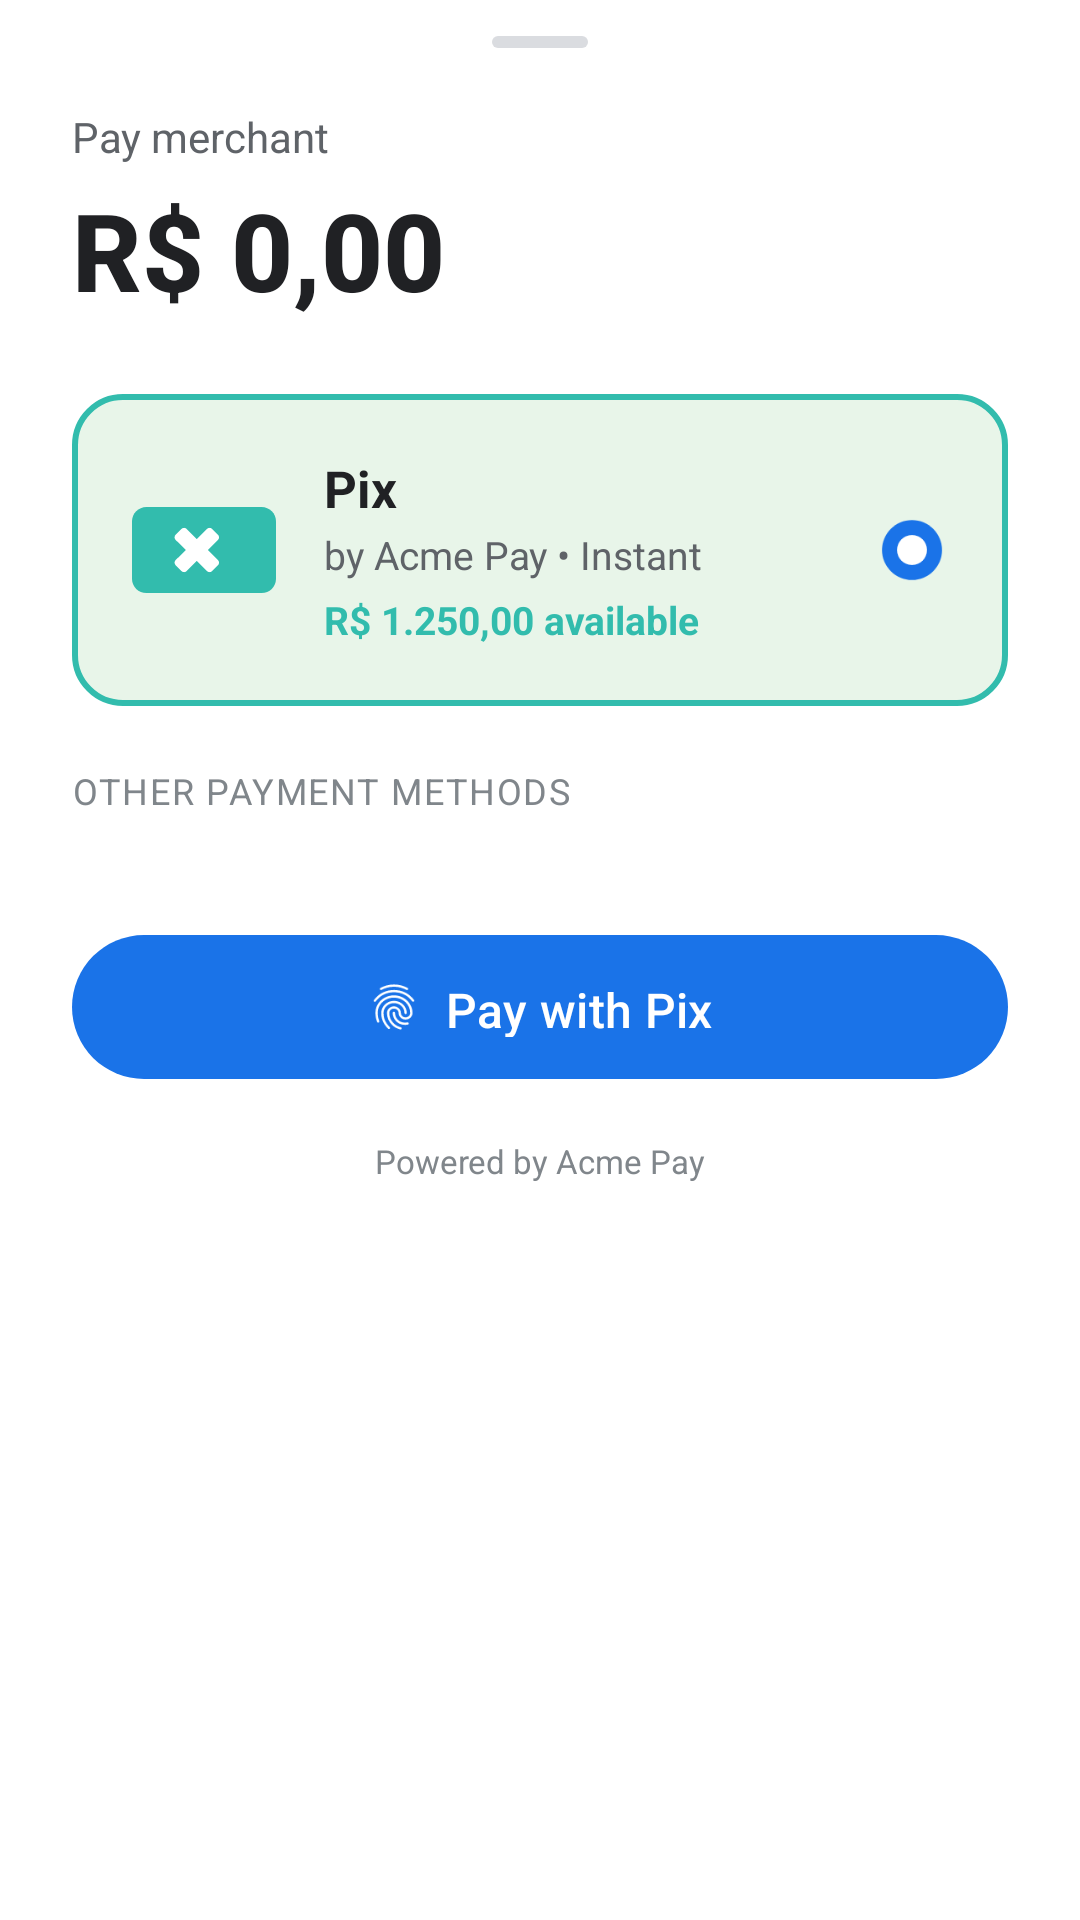

Icons on this 1080 × 1920 Android screen, each with the point to tap as (x=x, y=y):
radio checked: (x=912, y=550)
